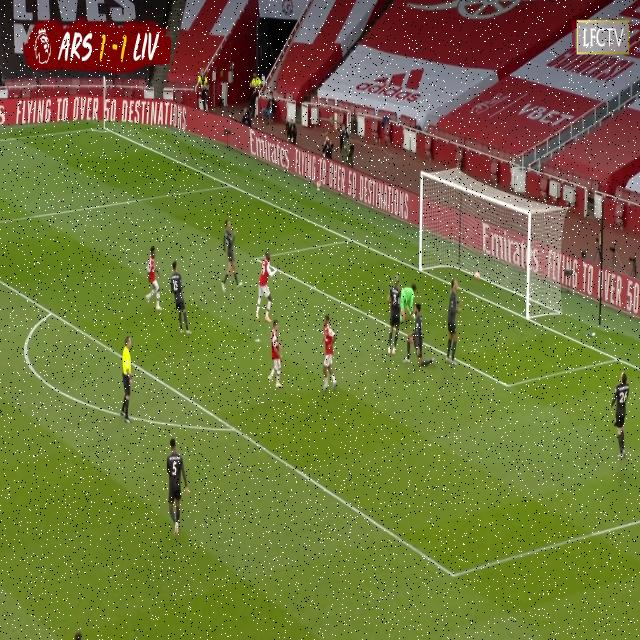Ball: (474, 269, 482, 284)
GoalKeeper: (400, 282, 417, 320)
TEAM 1: (323, 316, 338, 394), (268, 320, 284, 393), (147, 247, 162, 309)
TEAM 2: (165, 440, 188, 538), (609, 370, 631, 459), (169, 263, 189, 336), (446, 281, 462, 365), (388, 280, 405, 356), (257, 253, 274, 327), (406, 303, 425, 367), (223, 220, 240, 288)
